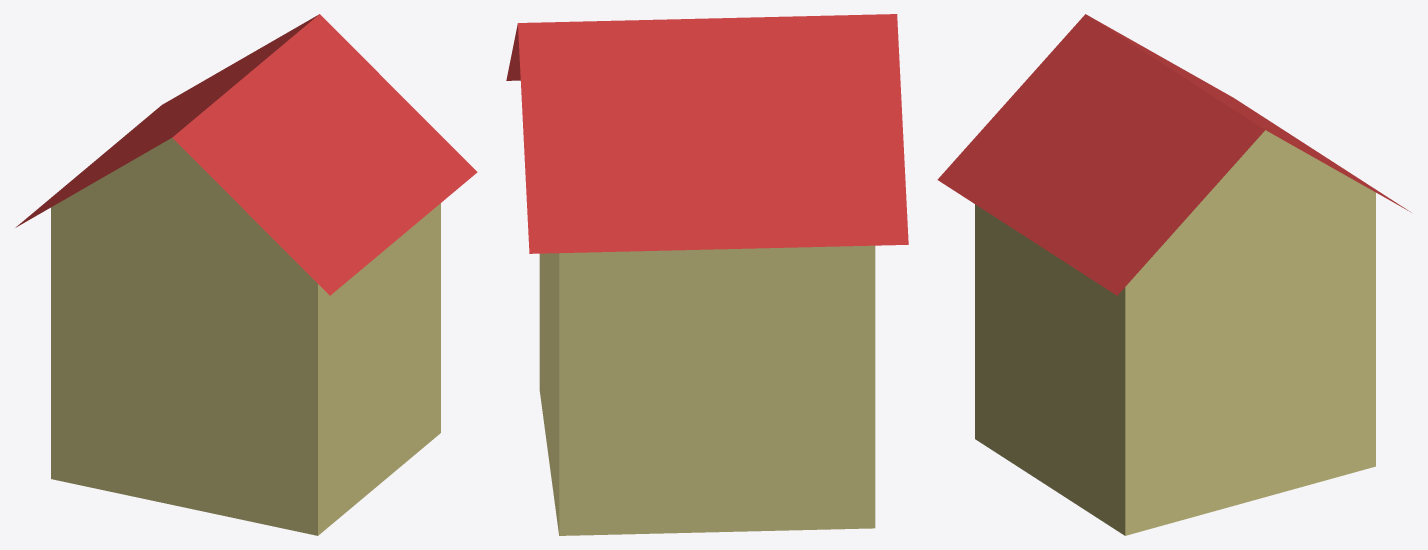
3 views of the same model, side by side, from view 1: azimuth 30°, elevation 25°; view 2: azimuth 150°, elevation 25°; view 3: azimuth 270°, elevation 25° (orthographic). The views are drawn at different scales.
Bounding box in the file's own units: 8.59 × 8.72 × 7.7.
